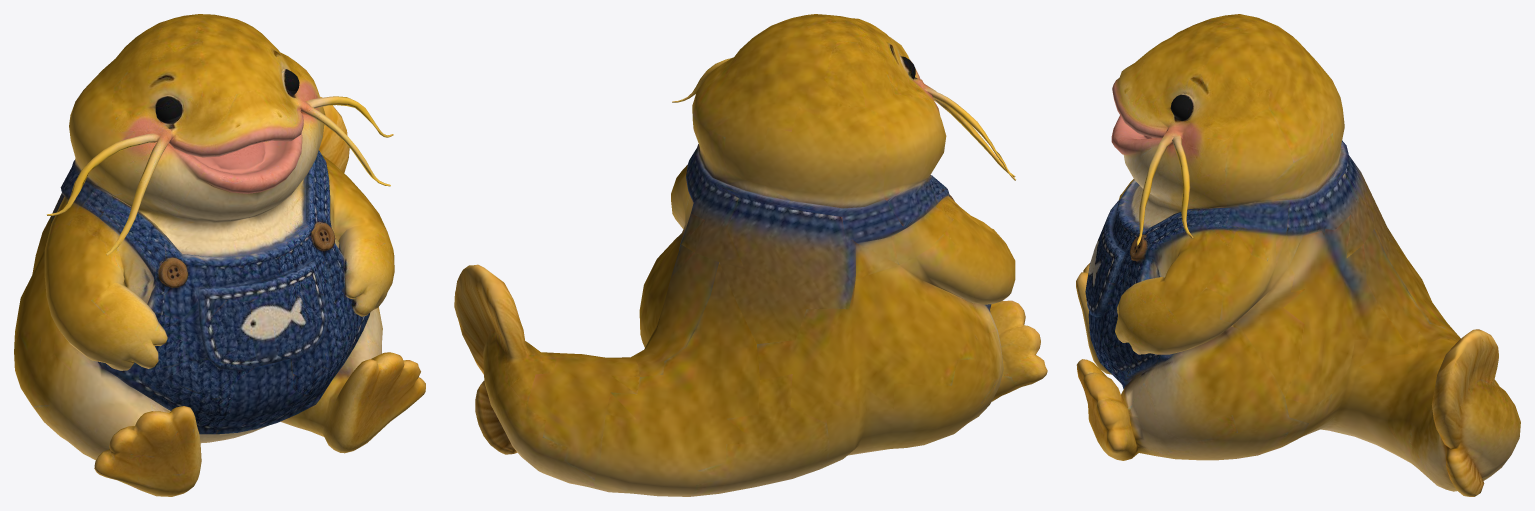
The model's file is barnaby.glb.
3 renders of one model, left to right at view 1: azimuth 30°, elevation 25°; view 2: azimuth 150°, elevation 25°; view 3: azimuth 270°, elevation 25°, orthographic. The views are drawn at different scales.
Bounding box in the file's own units: 0.9536 × 0.8643 × 0.877.
1 material, 1 textured.
